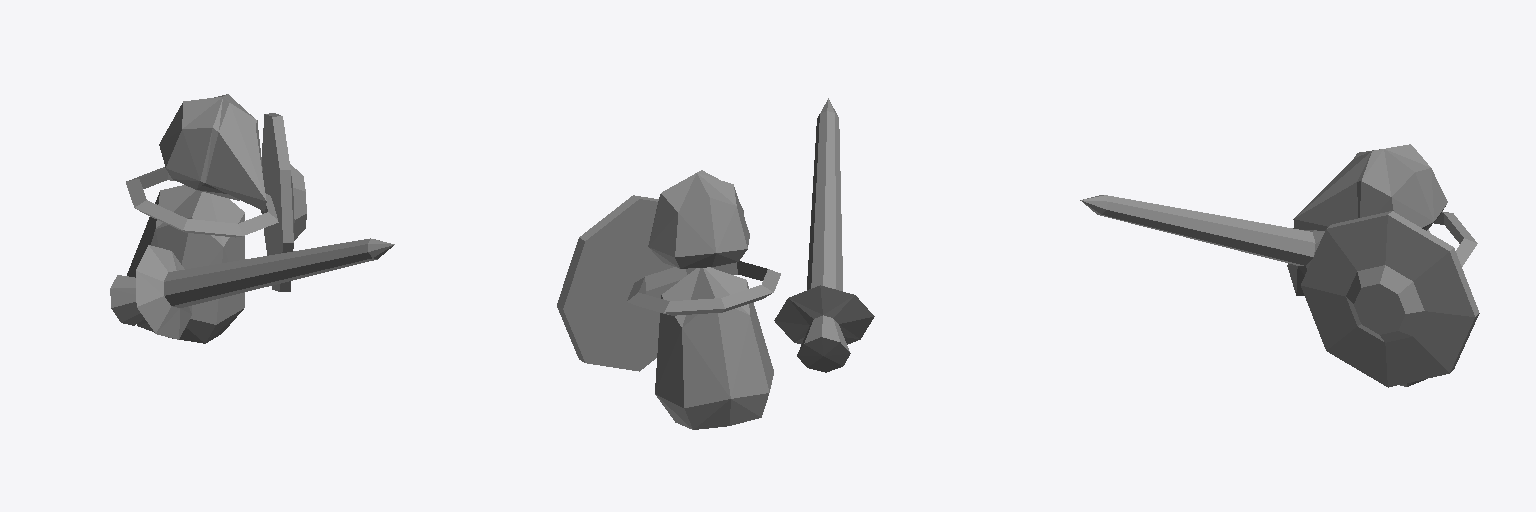
The picture shows the model from 3 angles: view 1: azimuth 30°, elevation 25°; view 2: azimuth 150°, elevation 25°; view 3: azimuth 270°, elevation 25°; orthographic projection.
Visible parts, largest first — view 1: meshMinion; view 2: meshMinion; view 3: meshMinion.
Boxes of the visible parts, box(x1,y1,x2,y2) form: meshMinion: box(110, 94, 394, 343); meshMinion: box(557, 98, 874, 429); meshMinion: box(1080, 144, 1479, 387).
Bounding box in the file's own units: 104 × 102 × 158.